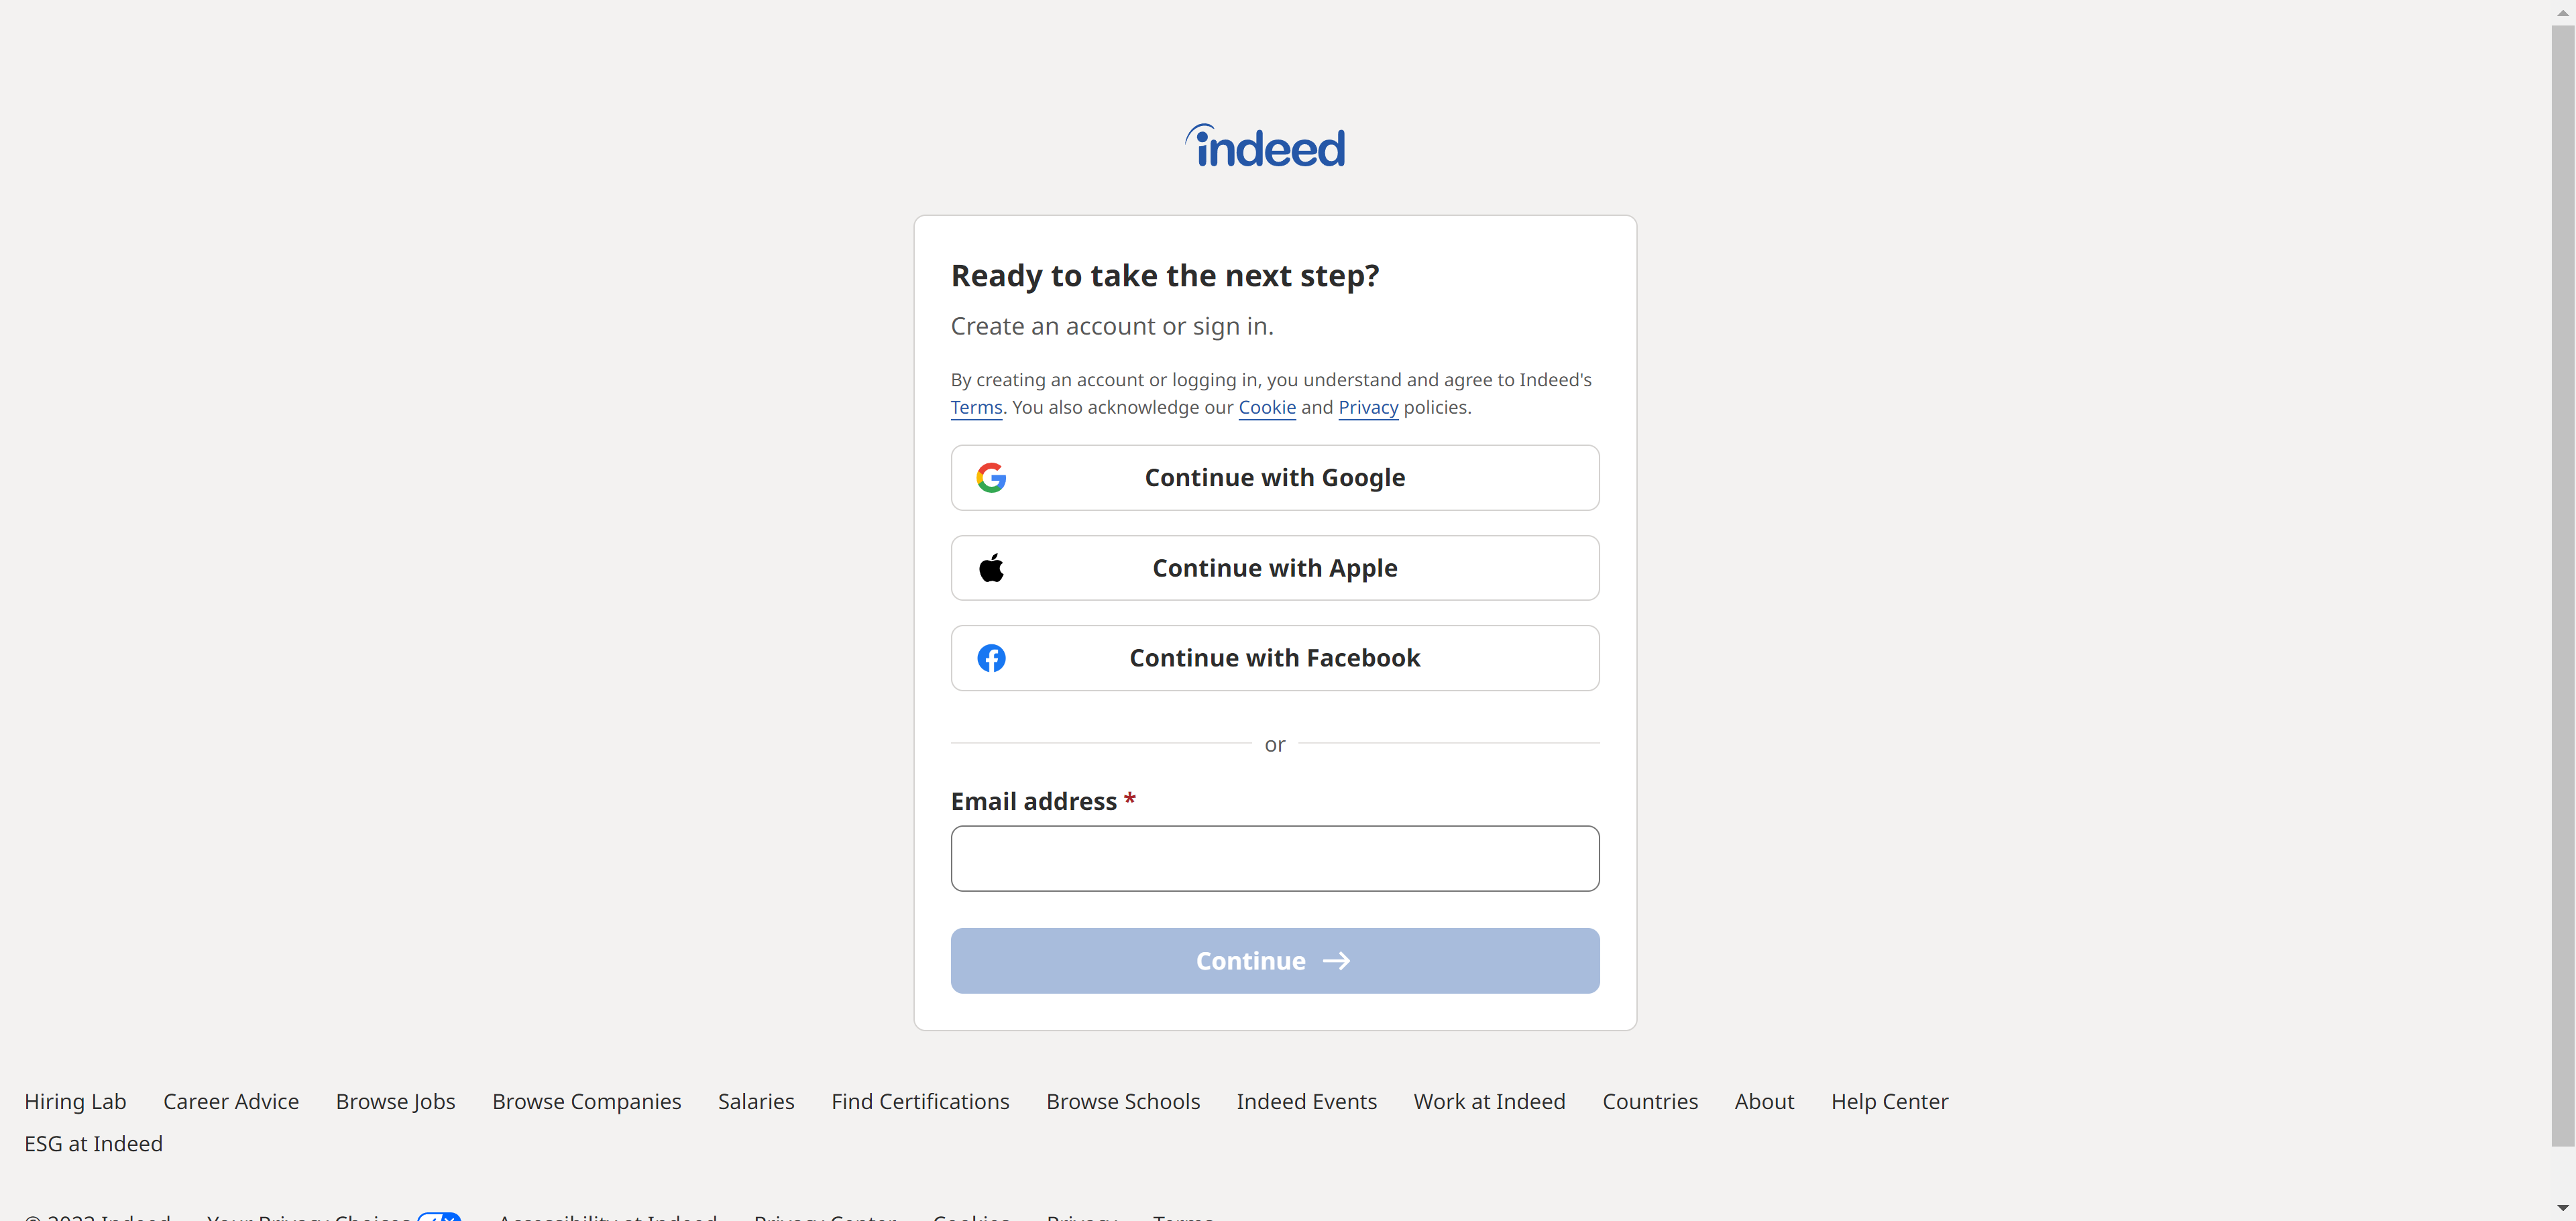login_button: (951, 930, 1600, 994)
login_form: (946, 786, 1605, 1001)
